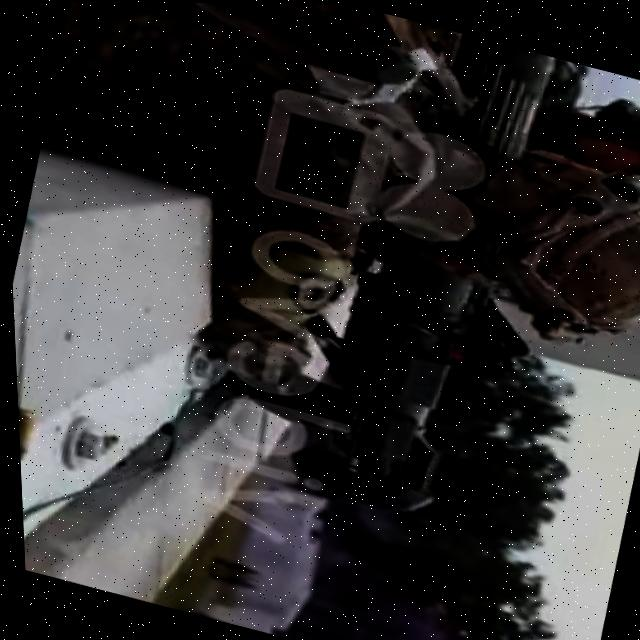rocket: (266, 9, 575, 530)
